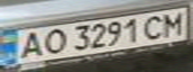1: (121, 16, 145, 44)
2: (87, 20, 112, 50)
3: (69, 22, 93, 52)
9: (106, 19, 127, 47)
A: (12, 29, 48, 61)
C: (139, 12, 169, 41)
M: (157, 10, 190, 37)
O: (36, 26, 69, 56)
